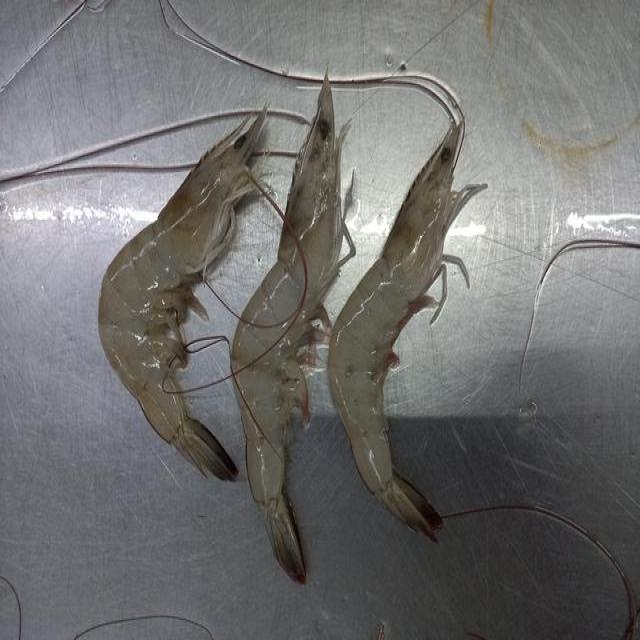shrimp: (329, 120, 486, 539), (99, 110, 264, 479), (231, 77, 344, 581)
